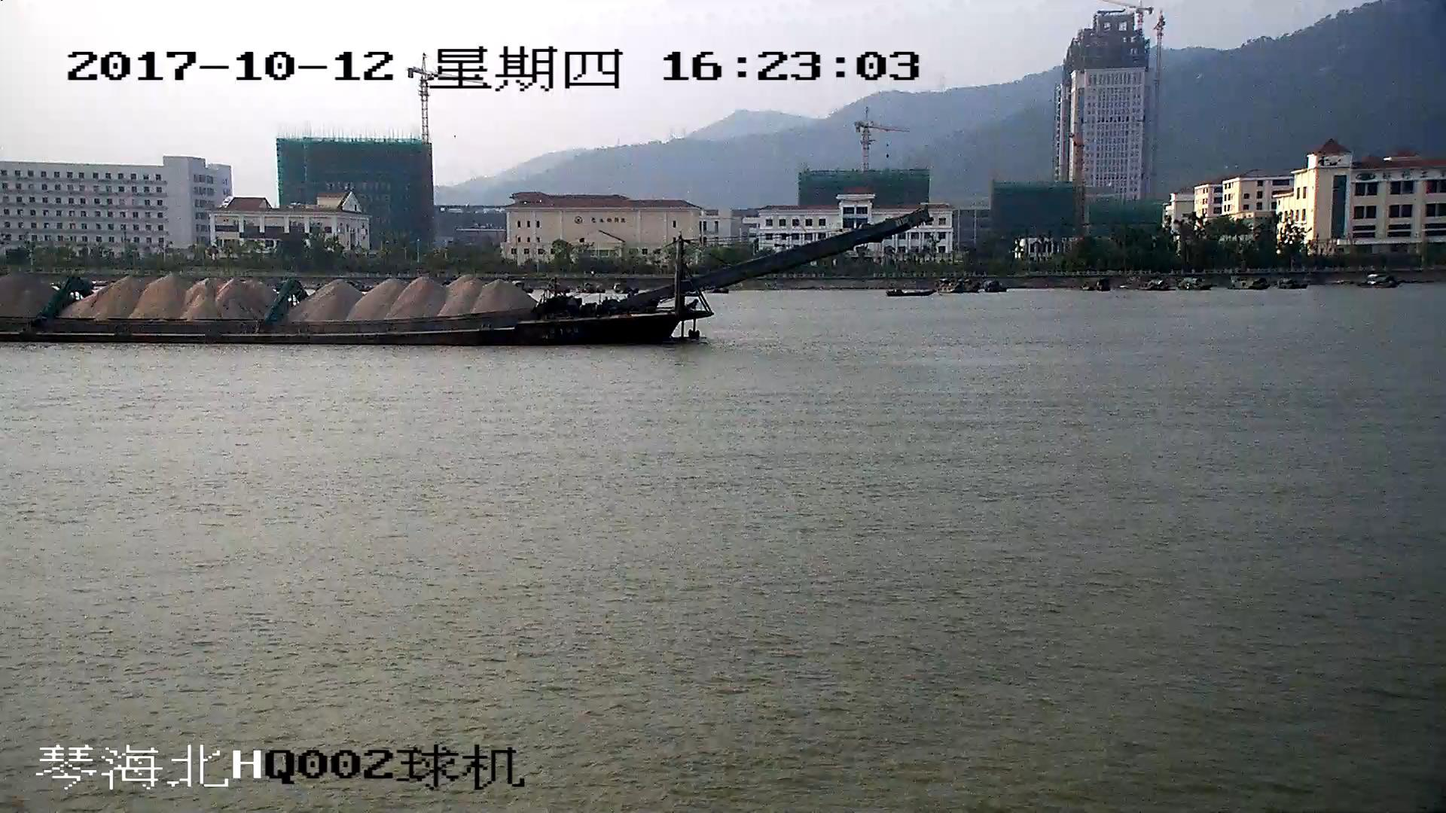ore carrier: (0, 212, 927, 341)
